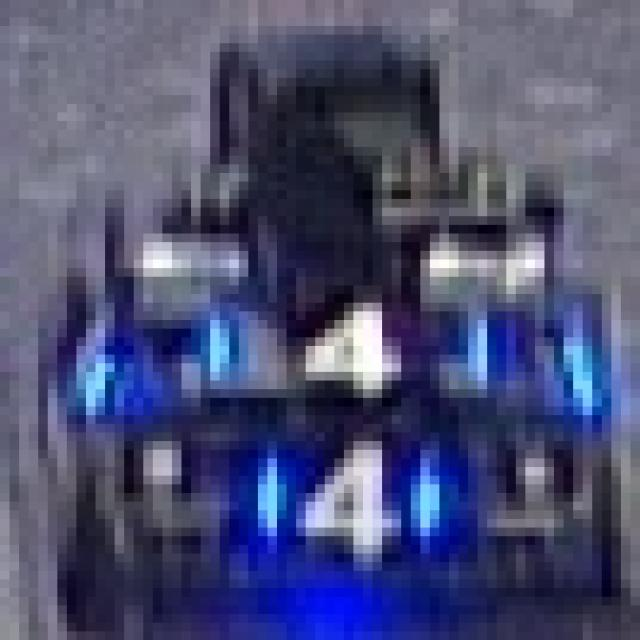B4: (191, 286, 506, 415), (248, 433, 440, 562)
